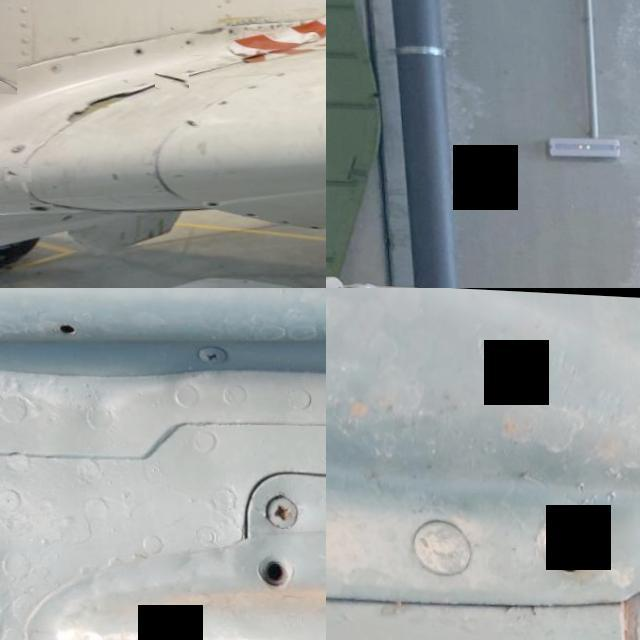Crack: (63, 85, 139, 128), (0, 60, 16, 94), (154, 71, 188, 86), (0, 166, 30, 182)
Missing_Fastener: (508, 482, 636, 616), (228, 530, 314, 612), (28, 202, 52, 212), (130, 44, 146, 54), (182, 116, 198, 125), (58, 212, 74, 220), (182, 36, 197, 44), (308, 220, 321, 229), (201, 198, 218, 204), (240, 208, 256, 214), (214, 97, 228, 103), (0, 78, 9, 87), (278, 216, 290, 222)
